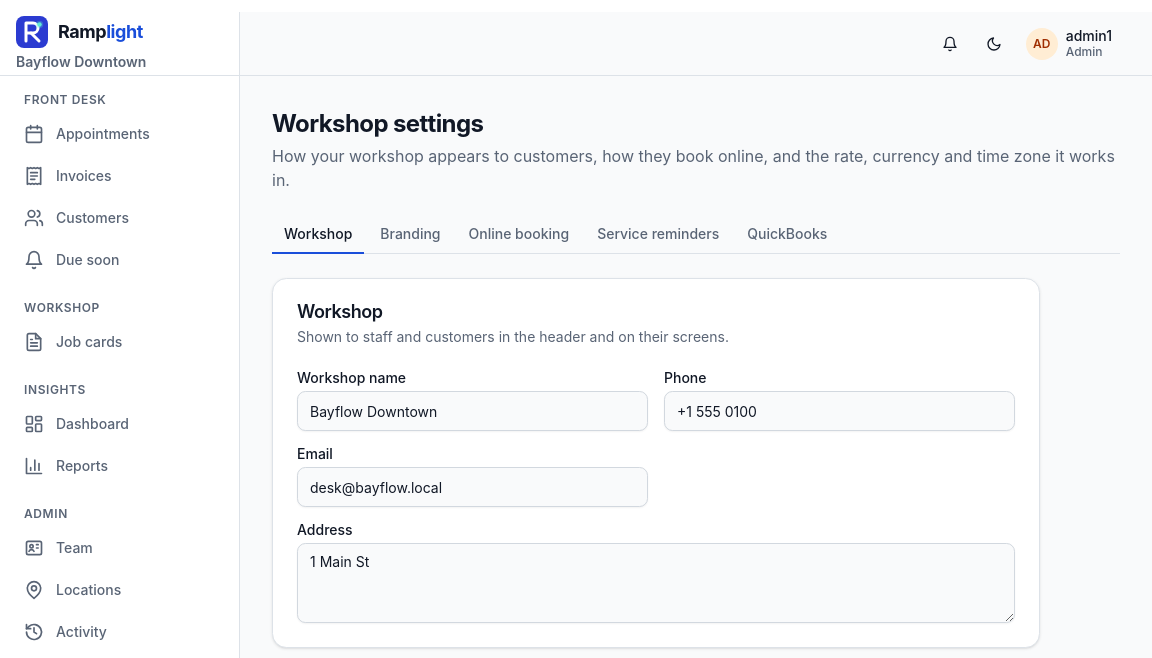
Scenario: settings tabs › shows one section at a time and keeps the tab in the address
Expected: the field labelled "Workshop name" is shown, [297,391,648,431]
What coordinates should you click on to do the following:
click the tab "Online booking"
I would click on:
 (519, 235)
Its box is [456,216,581,254].
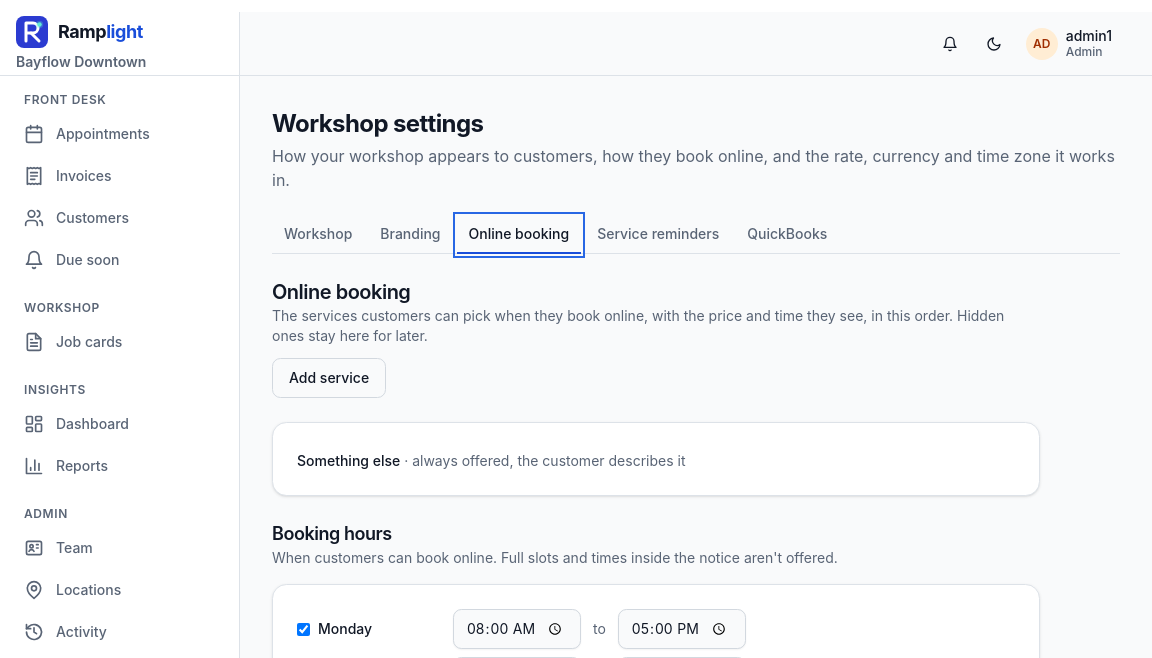
Expected: the heading "Online booking" is shown, [272,280,410,304]
Expected: the label labelled "Workshop name" is gone
